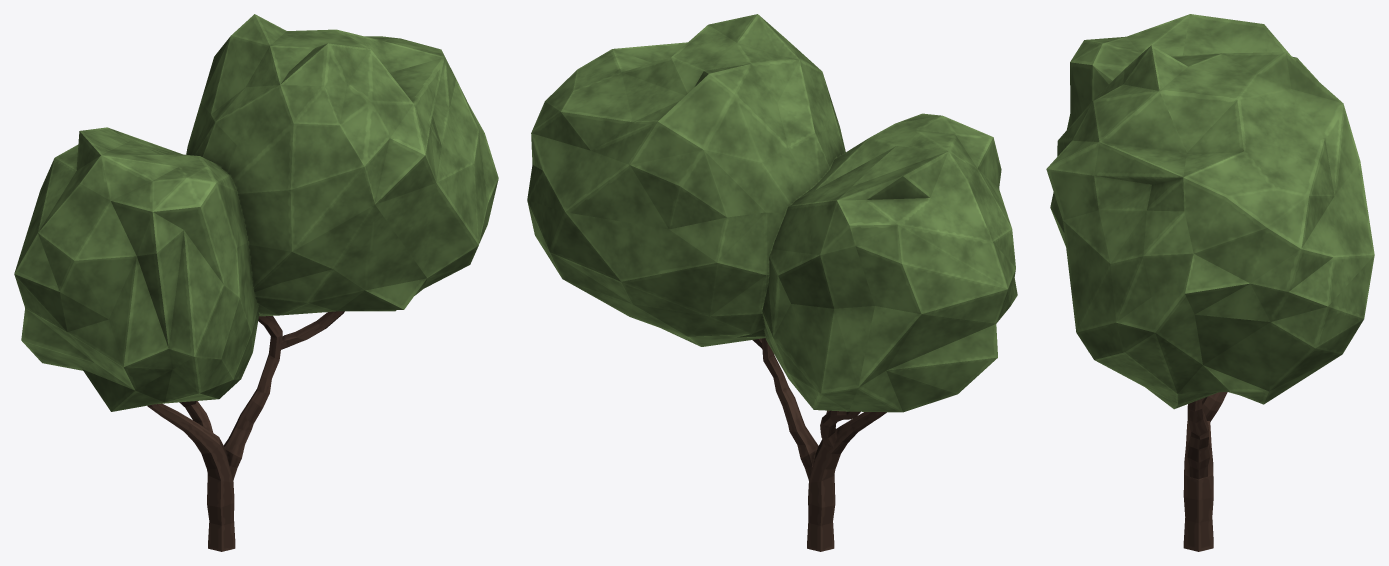
The picture shows the model from 3 angles, left to right: view 1: azimuth 30°, elevation 25°; view 2: azimuth 150°, elevation 25°; view 3: azimuth 270°, elevation 25°; orthographic projection. The views are drawn at different scales.
Visible parts, largest first — view 1: OliveTree_mesh; view 2: OliveTree_mesh; view 3: OliveTree_mesh.
Part boxes in pixels (x1,y1,x2,y2): OliveTree_mesh: [14, 14, 498, 551]; OliveTree_mesh: [527, 14, 1017, 551]; OliveTree_mesh: [1046, 14, 1374, 551].
Size of the model in its own units: 11.24 by 11.73 by 6.41.
1 material, 1 textured.
